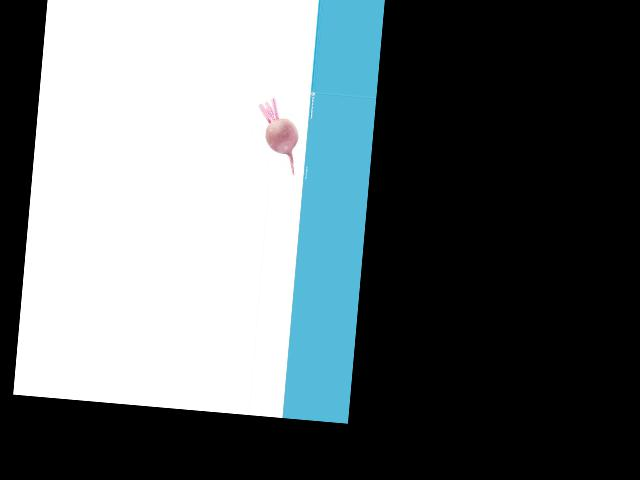beet: (253, 97, 301, 175)
